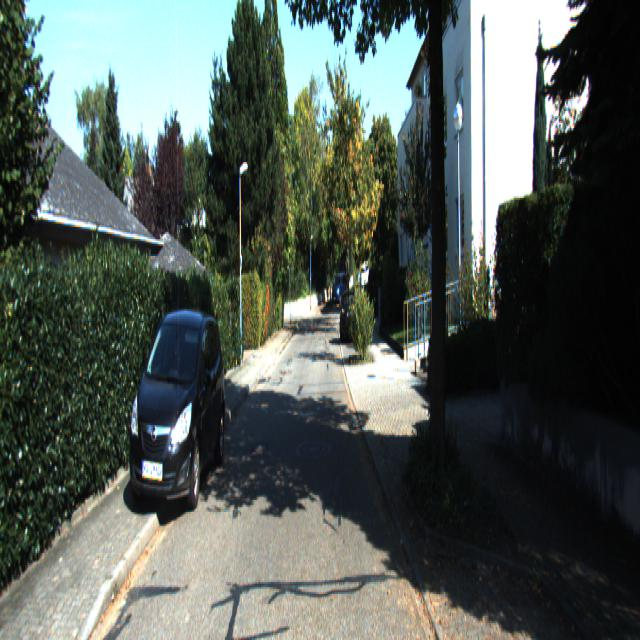Car: (125, 310, 227, 520), (340, 290, 358, 345)
